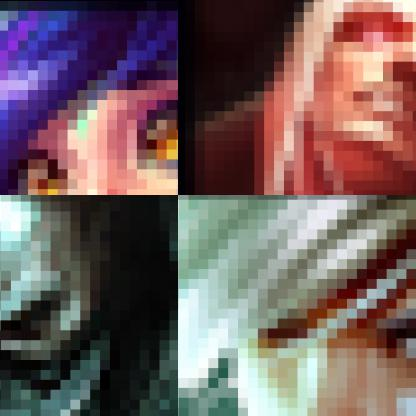Neeko: (0, 0, 177, 194)
Riven: (178, 195, 415, 415)
Urgot: (0, 195, 177, 415)
Vladimir: (178, 0, 415, 194)
